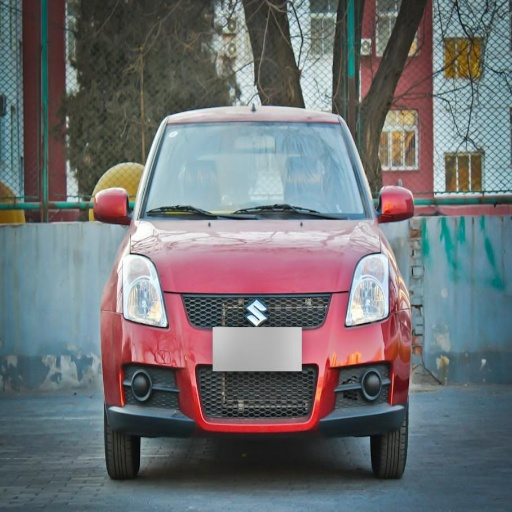front_bumper: (105, 291, 405, 433)
front_right_light: (116, 255, 170, 329)
hood: (131, 220, 381, 291)
left_mirror: (378, 186, 413, 223)
